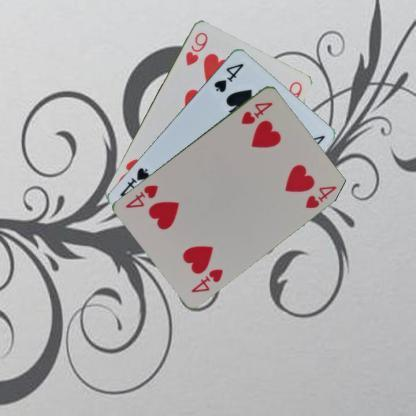4h: (188, 266, 224, 294), (238, 99, 274, 125)
4s: (211, 61, 245, 94)
9h: (182, 29, 210, 67)
